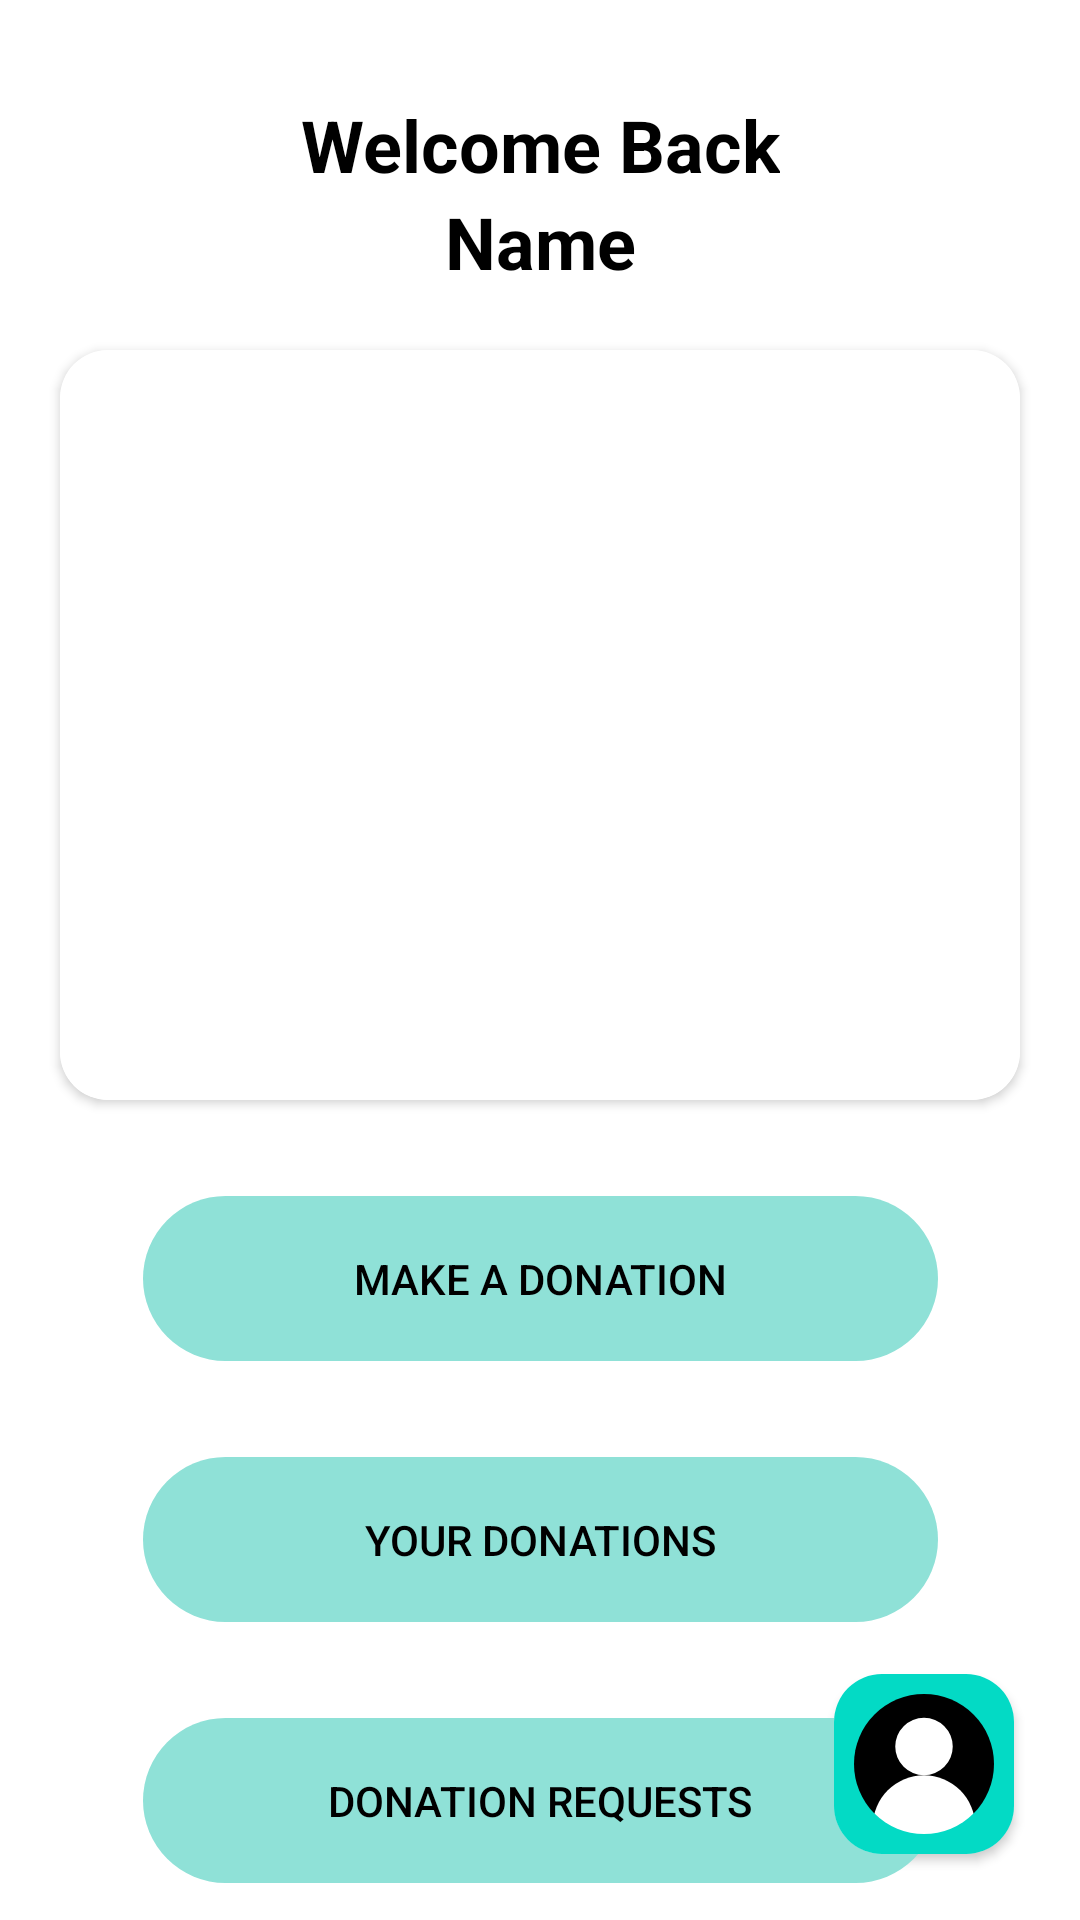

Icons on this 1080px×1920px Android screen, each with the point to tap as point (x, y):
profileicon: point (924, 1764)
